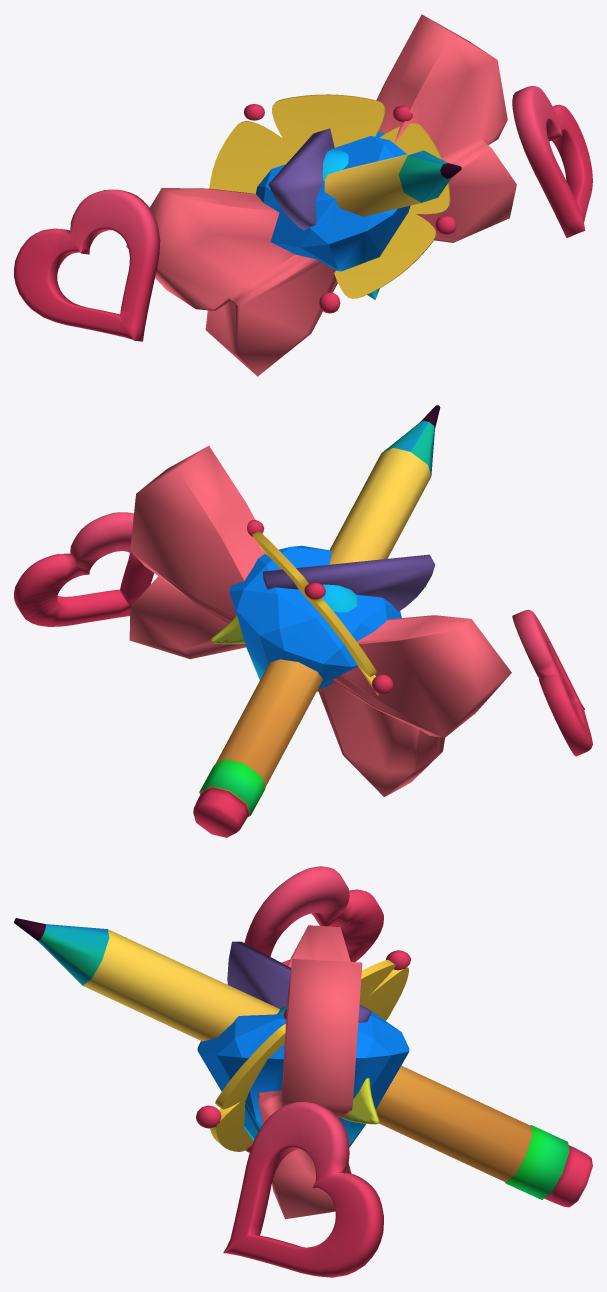
File: ObbyGame_Characters_hairpins_.fbx
3 renders of one model, top to bottom at view 1: azimuth 30°, elevation 25°; view 2: azimuth 150°, elevation 25°; view 3: azimuth 270°, elevation 25°, orthographic. The views are drawn at different scales.
Parts seen in each view (by area): view 1: ObbyGame_Characters_hairpin_002, ObbyGame_Characters_hairpin_003, ObbyGame_Characters_hairpin_000, ObbyGame_Characters_hairpin_004, ObbyGame_Characters_hairpin_001; view 2: ObbyGame_Characters_hairpin_002, ObbyGame_Characters_hairpin_004, ObbyGame_Characters_hairpin_003, ObbyGame_Characters_hairpin_001, ObbyGame_Characters_hairpin_000; view 3: ObbyGame_Characters_hairpin_004, ObbyGame_Characters_hairpin_002, ObbyGame_Characters_hairpin_003, ObbyGame_Characters_hairpin_000, ObbyGame_Characters_hairpin_001.
Boxes of the visible parts, <box> form: ObbyGame_Characters_hairpin_002: <box>126,14,516,376</box>; ObbyGame_Characters_hairpin_003: <box>14,86,592,341</box>; ObbyGame_Characters_hairpin_000: <box>209,94,456,313</box>; ObbyGame_Characters_hairpin_004: <box>324,150,461,216</box>; ObbyGame_Characters_hairpin_001: <box>268,128,334,230</box>; ObbyGame_Characters_hairpin_002: <box>129,446,511,796</box>; ObbyGame_Characters_hairpin_004: <box>193,405,440,837</box>; ObbyGame_Characters_hairpin_003: <box>14,512,592,756</box>; ObbyGame_Characters_hairpin_001: <box>210,554,435,644</box>; ObbyGame_Characters_hairpin_000: <box>247,520,393,696</box>; ObbyGame_Characters_hairpin_004: <box>14,918,592,1207</box>; ObbyGame_Characters_hairpin_002: <box>197,925,409,1219</box>; ObbyGame_Characters_hairpin_003: <box>223,866,383,1277</box>; ObbyGame_Characters_hairpin_000: <box>196,950,410,1152</box>; ObbyGame_Characters_hairpin_001: <box>227,941,379,1124</box>.
Size of the model in its own units: 148 by 72.45 by 112.
1 material, 1 textured.
